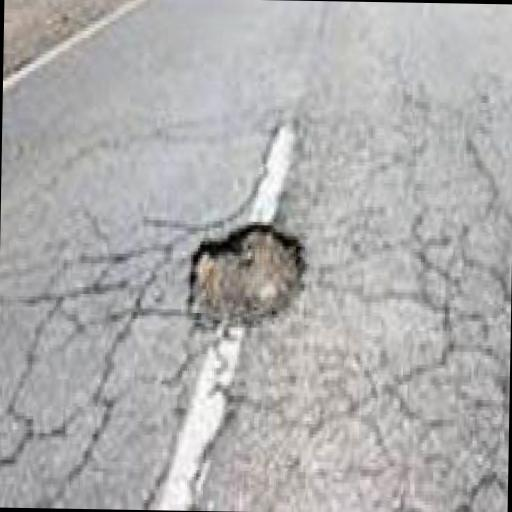pothole: (183, 218, 309, 336)
